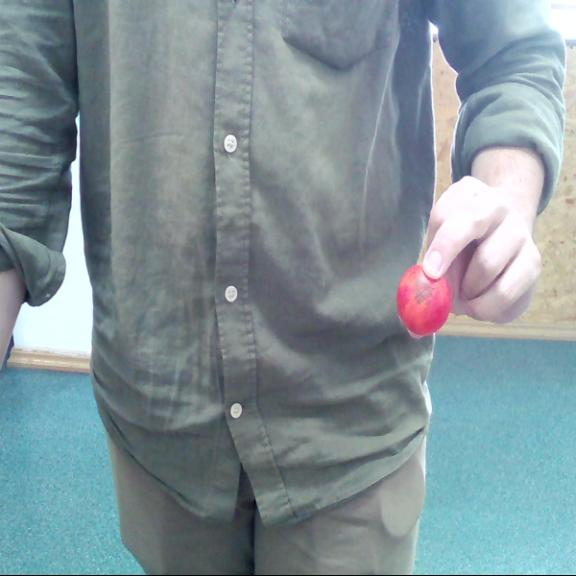ball: (397, 262, 456, 336)
